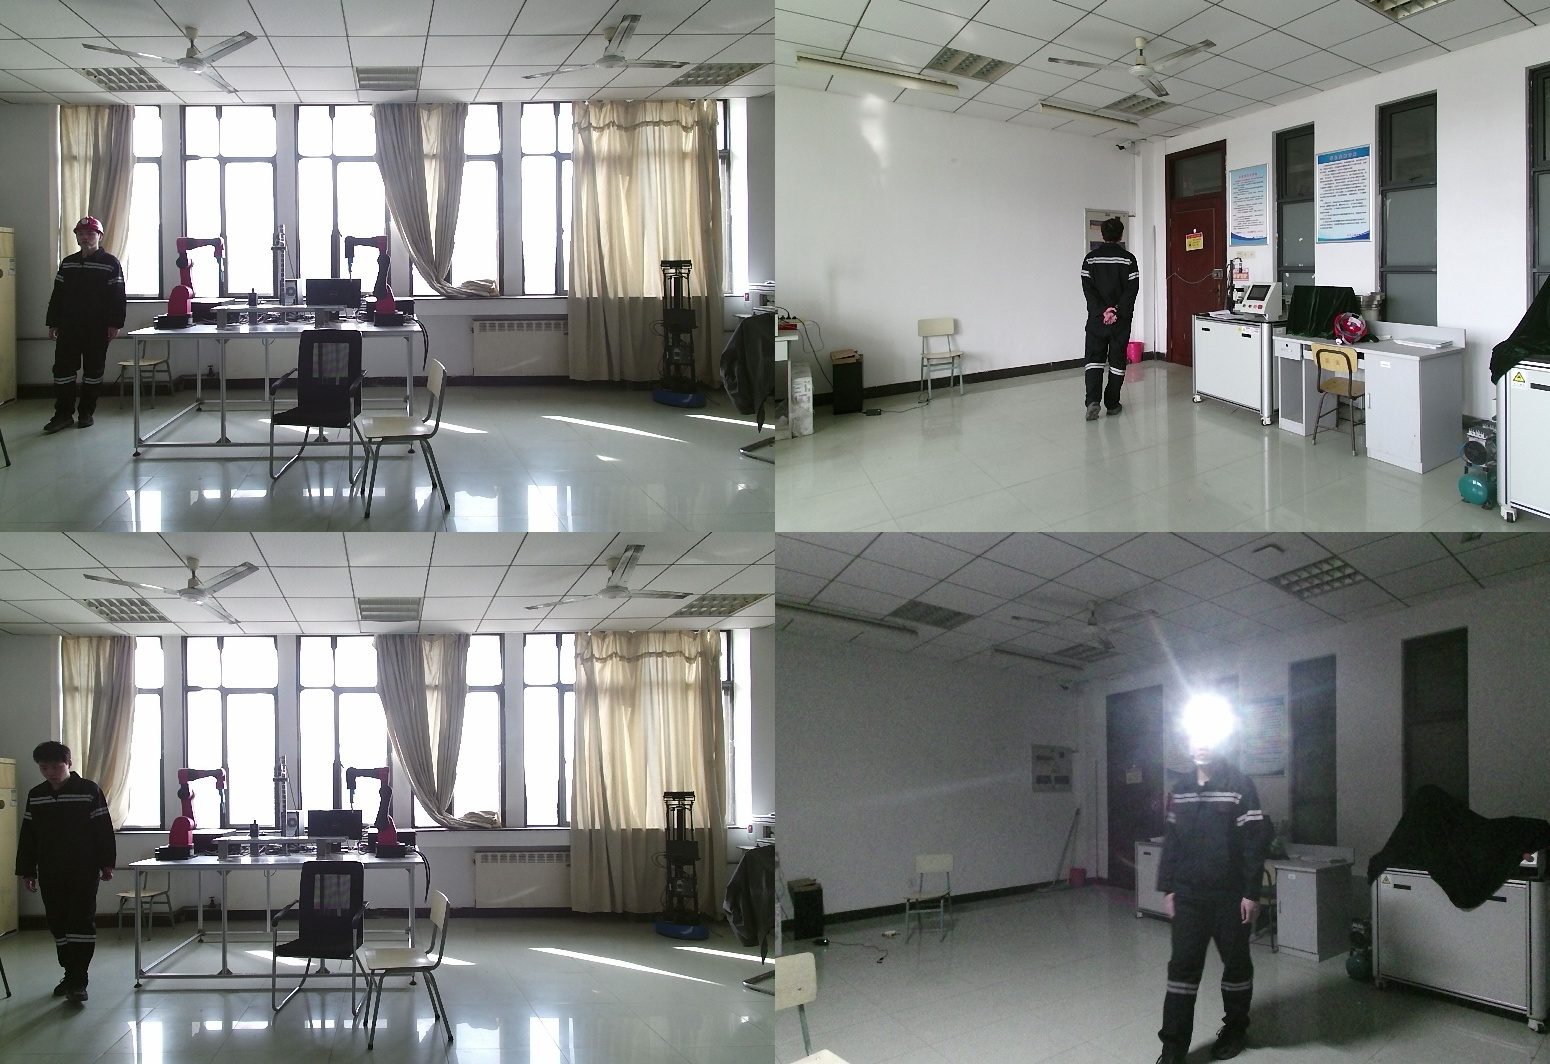person: (1144, 706, 1271, 1064), (16, 741, 120, 997), (40, 215, 127, 433), (1074, 217, 1143, 426)
